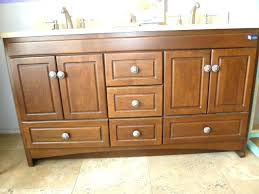cabinet door: (10, 58, 56, 118), (57, 58, 104, 115), (165, 52, 207, 112), (209, 53, 250, 111), (164, 116, 246, 140), (105, 53, 164, 86), (26, 123, 110, 146), (108, 88, 162, 116), (109, 118, 161, 145)
handle: (55, 69, 67, 81), (129, 98, 140, 111), (200, 124, 213, 135), (46, 70, 57, 81), (60, 130, 71, 141), (202, 64, 212, 75), (132, 128, 141, 140), (129, 65, 139, 75), (210, 65, 219, 76)
